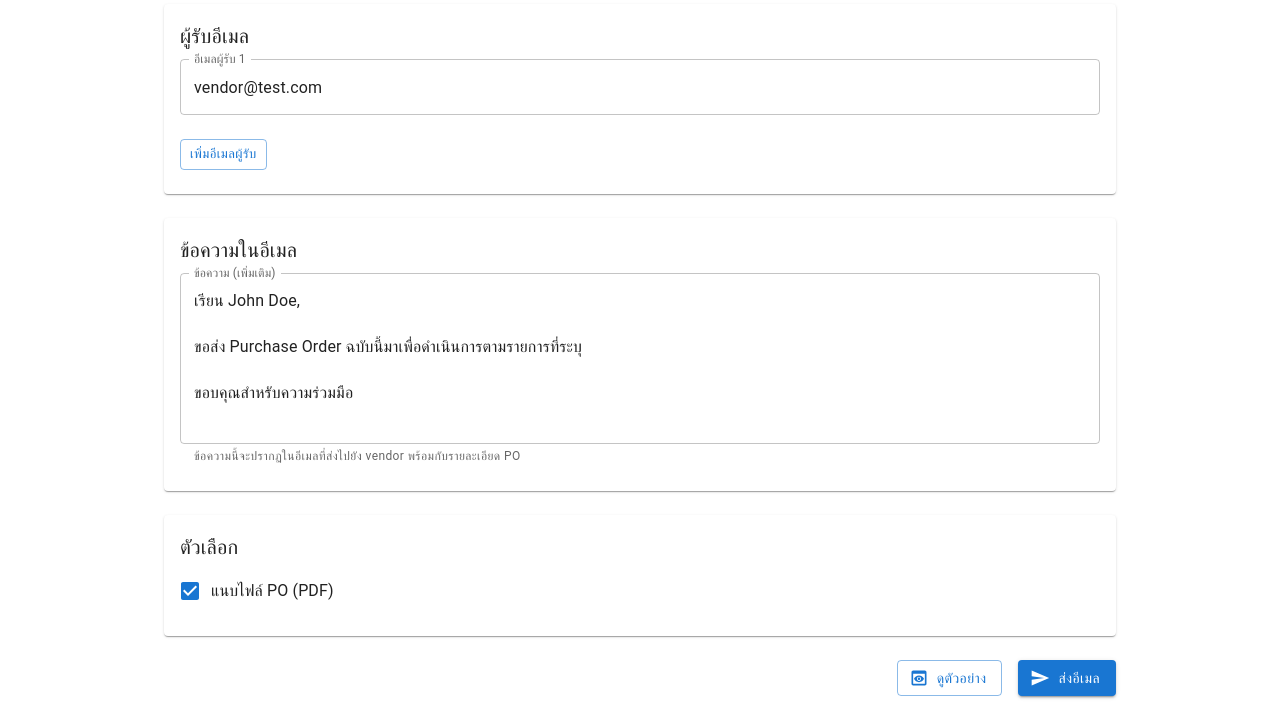
it: POEmailForm › Form Submission › shows confirmation dialog when submitting
This screenshot has width=1280, height=720.
(page scrolled)
Click the button "ส่งอีเมล" at [1067, 678], box [1018,660,1116,696]
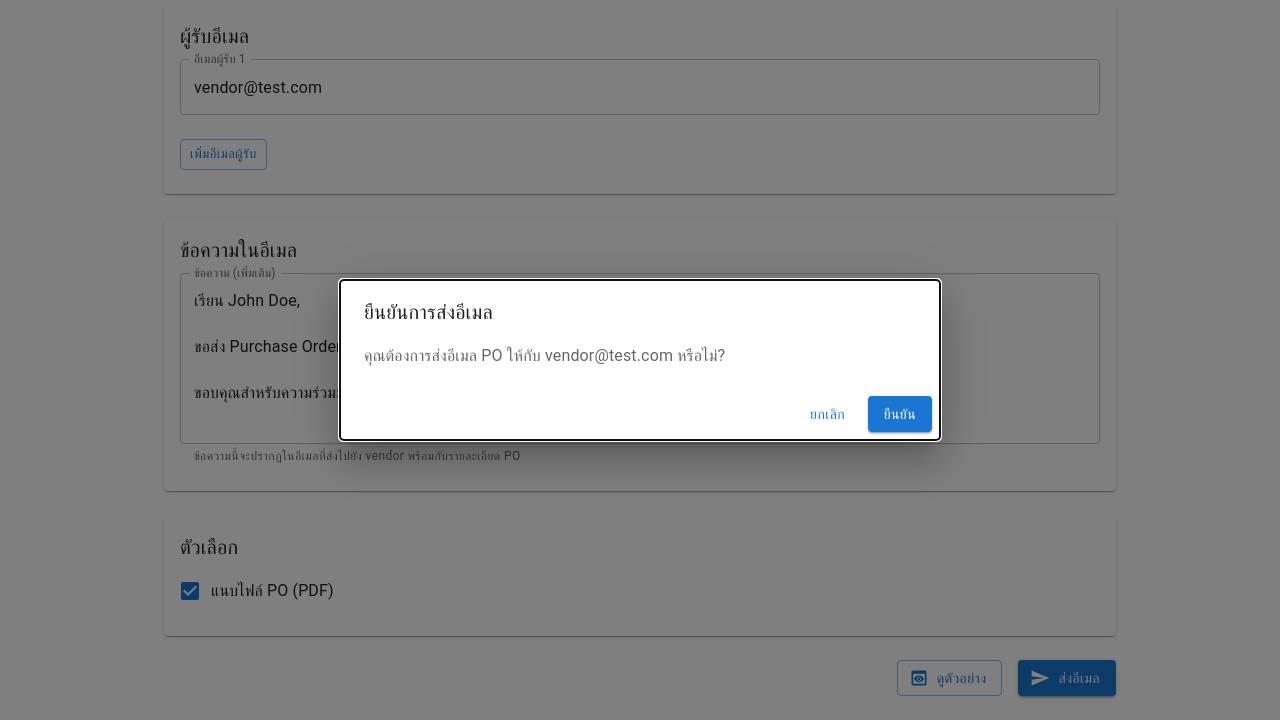
expect the heading "ยืนยันการส่งอีเมล" is shown: met, box [364,300,493,324]
expect the text "คุณต้องการส่งอีเมล PO ให้กับ vendor@test.com หรือไม่?" is shown: met, box [364,346,725,365]
